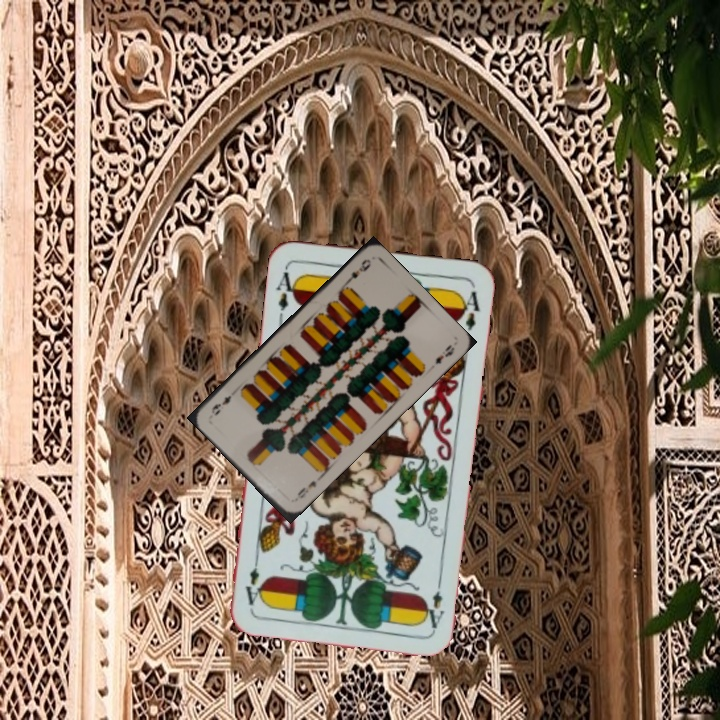E9: (341, 255, 374, 287), (293, 476, 319, 501)
EA: (272, 264, 301, 323), (421, 573, 447, 631)
